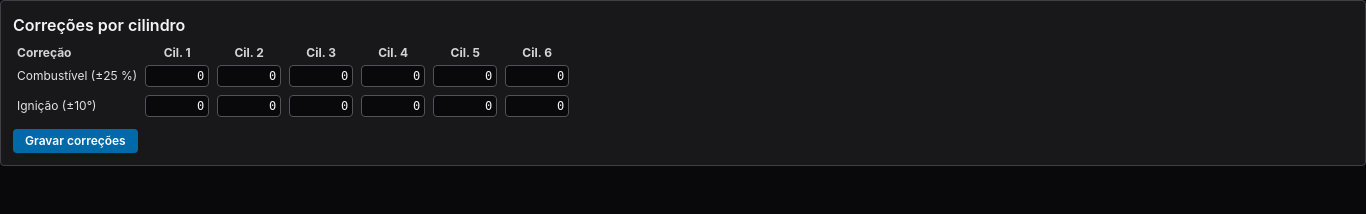
Test: CylinderTrims (RF-21) › valor −11° é rejeitado com a mensagem de limite
Replace the text in the field named "Trim de ignição cilindro 3" with "-11" at (321,106), box [289, 95, 353, 117]
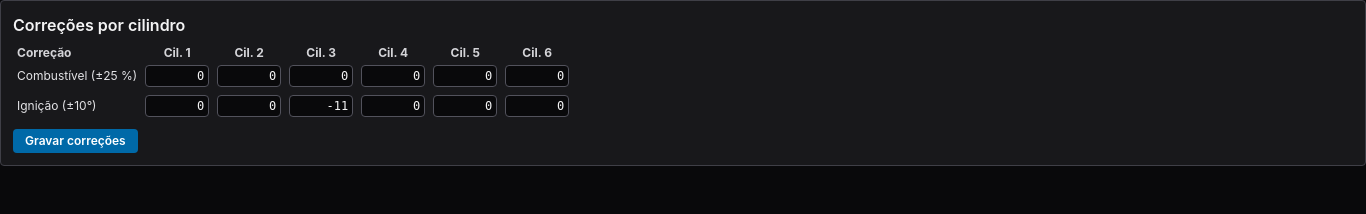
Click the button "Gravar correções".
click(75, 141)  # box [13, 129, 138, 153]
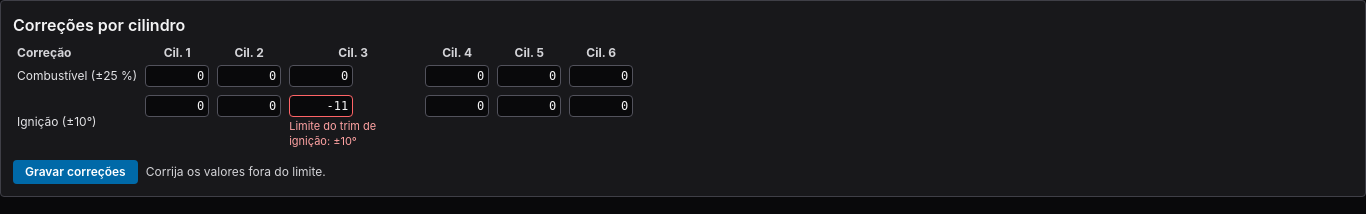
Expected: the text "Limite do trim de ignição: ±10°" is shown, [289, 119, 376, 148]
